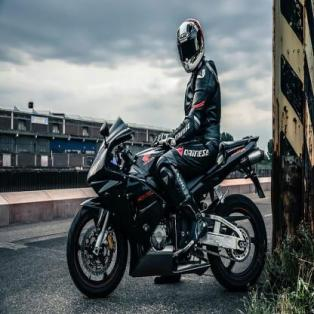Motocicleta: (64, 112, 268, 297)
